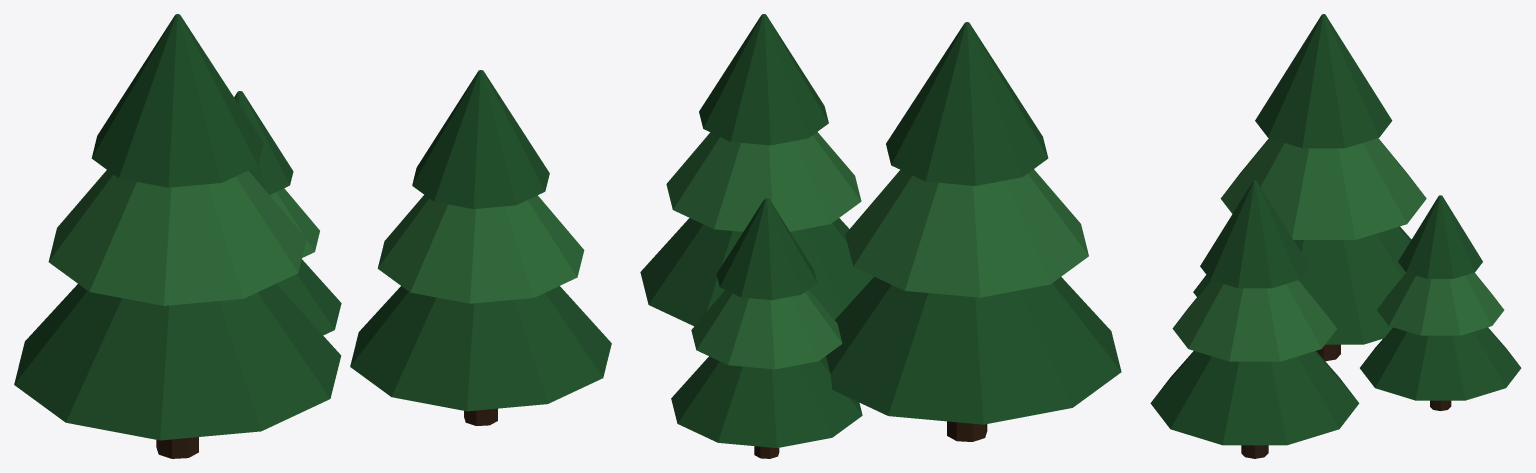
Rendered from forest.glb.
The picture shows the model from 3 angles, left to right: view 1: azimuth 30°, elevation 25°; view 2: azimuth 150°, elevation 25°; view 3: azimuth 270°, elevation 25°; orthographic projection. The views are drawn at different scales.
Visible parts, largest first — view 1: PINE_-0.17_0.05_0, PINE_-0.17_0.05_1, PINE_0.17_-0.05_0, PINE_-0.17_0.05_2, PINE_0.17_-0.05_1, PINE_0.17_-0.05_2, PINE_0.01_0.22_0, PINE_0.01_0.22_2, PINE_0.01_0.22_1, TRUNK_-0.17_0.05; view 2: PINE_-0.17_0.05_0, PINE_-0.17_0.05_1, PINE_-0.17_0.05_2, PINE_0.17_-0.05_1, PINE_0.01_0.22_0, PINE_0.17_-0.05_0, PINE_0.17_-0.05_2, PINE_0.01_0.22_1, PINE_0.01_0.22_2, TRUNK_-0.17_0.05; view 3: PINE_0.17_-0.05_0, PINE_-0.17_0.05_1, PINE_-0.17_0.05_2, PINE_0.17_-0.05_1, PINE_0.01_0.22_0, PINE_-0.17_0.05_0, PINE_0.17_-0.05_2, PINE_0.01_0.22_1, PINE_0.01_0.22_2.
Part boxes in pixels (x1,y1,x2,y2): PINE_-0.17_0.05_0: [14, 284, 341, 440]; PINE_-0.17_0.05_1: [48, 170, 306, 305]; PINE_0.17_-0.05_0: [350, 286, 611, 411]; PINE_-0.17_0.05_2: [91, 14, 263, 187]; PINE_0.17_-0.05_1: [377, 195, 584, 303]; PINE_0.17_-0.05_2: [412, 70, 549, 208]; PINE_0.01_0.22_0: [276, 259, 341, 335]; PINE_0.01_0.22_2: [234, 91, 293, 194]; PINE_0.01_0.22_1: [269, 188, 319, 257]; TRUNK_-0.17_0.05: [156, 437, 198, 458]; PINE_-0.17_0.05_0: [825, 276, 1121, 424]; PINE_-0.17_0.05_1: [845, 169, 1088, 297]; PINE_-0.17_0.05_2: [886, 22, 1048, 185]; PINE_0.17_-0.05_1: [666, 132, 861, 231]; PINE_0.01_0.22_0: [671, 356, 862, 447]; PINE_0.17_-0.05_0: [640, 218, 873, 326]; PINE_0.17_-0.05_2: [699, 14, 828, 145]; PINE_0.01_0.22_1: [691, 289, 842, 369]; PINE_0.01_0.22_2: [716, 198, 817, 300]; TRUNK_-0.17_0.05: [947, 421, 987, 441]; PINE_0.17_-0.05_0: [1150, 351, 1359, 445]; PINE_-0.17_0.05_1: [1220, 138, 1426, 239]; PINE_-0.17_0.05_2: [1255, 14, 1392, 148]; PINE_0.17_-0.05_1: [1172, 280, 1337, 361]; PINE_0.01_0.22_0: [1360, 327, 1521, 400]; PINE_-0.17_0.05_0: [1193, 226, 1411, 344]; PINE_0.17_-0.05_2: [1200, 180, 1309, 288]; PINE_0.01_0.22_1: [1377, 272, 1504, 335]; PINE_0.01_0.22_2: [1398, 195, 1482, 278].
Size of the model in its own units: 0.6653 by 0.545 by 0.5398.
